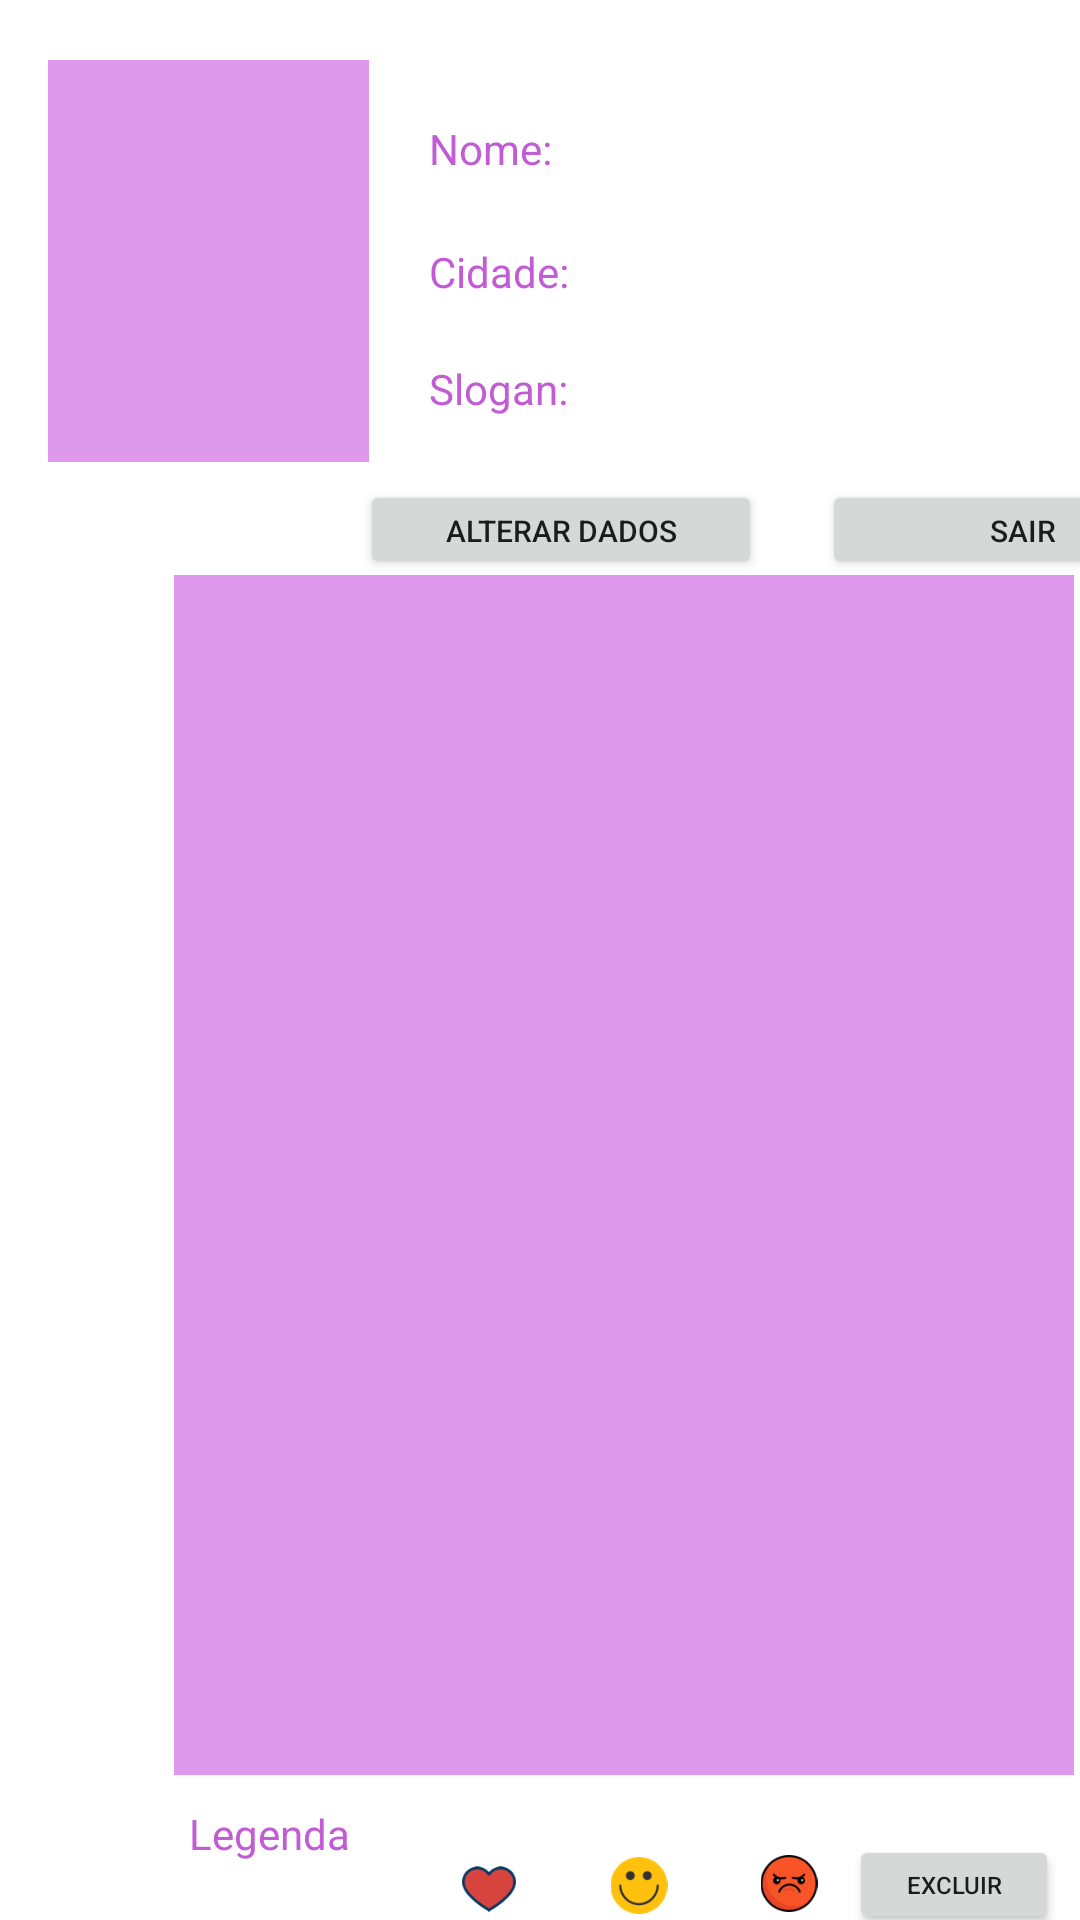

Where icons sit on this 1080px x 1920px app screen, as (x1, y1, x2, y2):
angry: (761, 1855, 818, 1912)
feliz: (611, 1857, 668, 1914)
heart: (462, 1866, 516, 1912)
